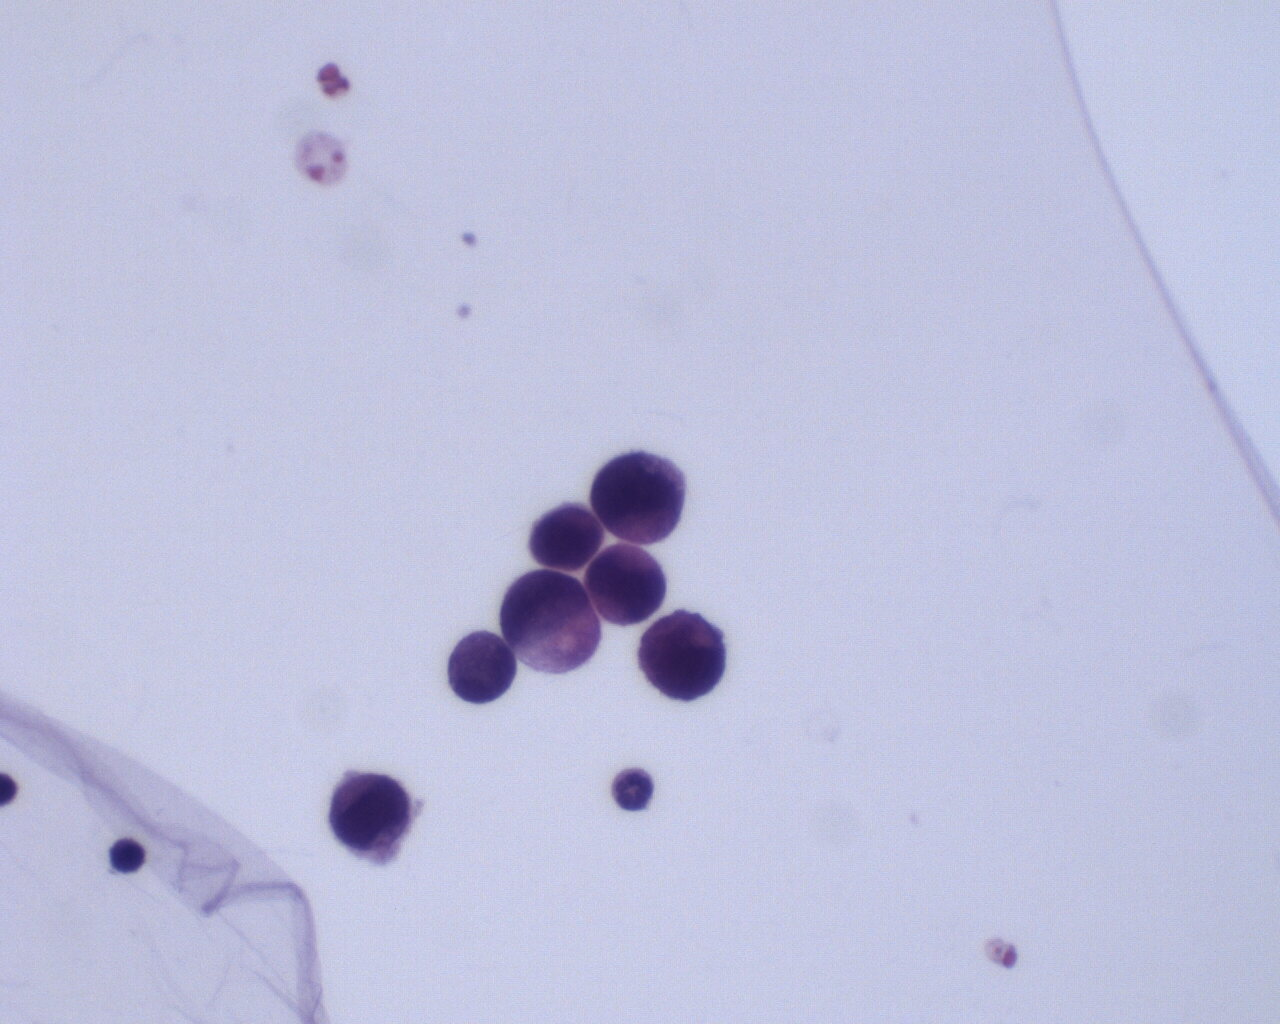ab: (504, 571, 608, 679), (590, 451, 689, 548), (637, 608, 730, 705), (327, 765, 413, 859), (586, 541, 669, 628), (445, 628, 521, 709), (528, 498, 606, 572)
lymph: (103, 830, 150, 879)
neutro: (611, 761, 661, 818)
